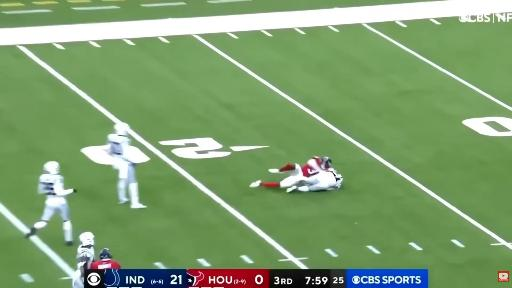Helmet: (79, 232, 94, 246), (44, 162, 59, 174), (115, 123, 129, 135), (100, 248, 111, 259), (322, 157, 331, 169), (339, 174, 343, 183)
Jersey: (38, 174, 69, 205), (307, 171, 342, 191), (108, 134, 130, 158), (302, 157, 322, 177), (77, 246, 94, 268), (91, 259, 120, 269)
Player: (26, 162, 76, 245), (107, 123, 146, 208), (250, 157, 331, 188), (287, 169, 343, 192), (77, 232, 94, 268), (91, 249, 120, 269), (72, 263, 85, 287)
